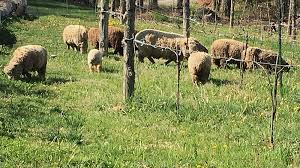sheep: (136, 29, 189, 64), (5, 43, 47, 83), (210, 39, 249, 74), (243, 44, 287, 75), (95, 26, 127, 58), (187, 51, 211, 83), (63, 24, 90, 52), (87, 50, 102, 75)
